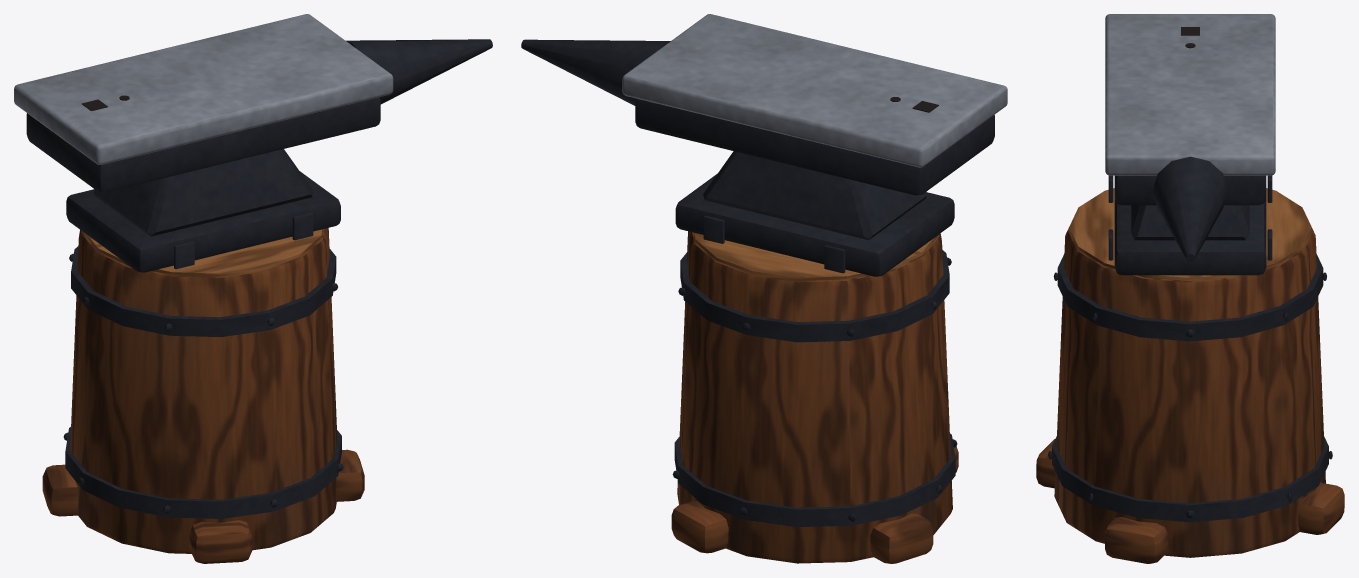
Rendered from anvil.glb.
3 renders of one model, left to right at view 1: azimuth 30°, elevation 25°; view 2: azimuth 150°, elevation 25°; view 3: azimuth 270°, elevation 25°, orthographic. The views are drawn at different scales.
Parts seen in each view (by area): view 1: Anvil_Body; view 2: Anvil_Body; view 3: Anvil_Body.
Part boxes in pixels (bbox=[...]): Anvil_Body: bbox=[14, 14, 492, 563]; Anvil_Body: bbox=[521, 14, 1007, 563]; Anvil_Body: bbox=[1036, 14, 1344, 563].
Bounding box in the file's own units: 1.32 × 1.22 × 0.8133.
Materials: 5 (4 with a texture image).
